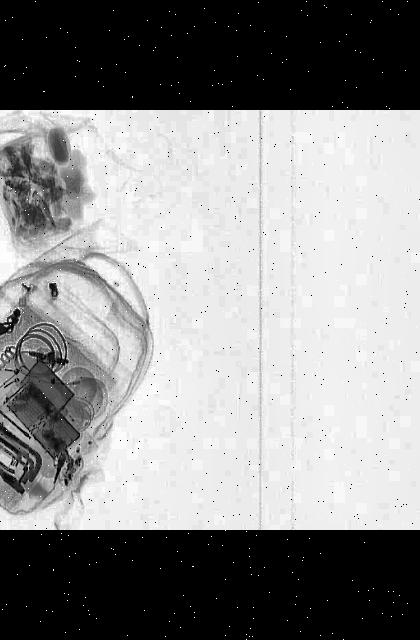Pliers: (0, 402, 36, 475)
